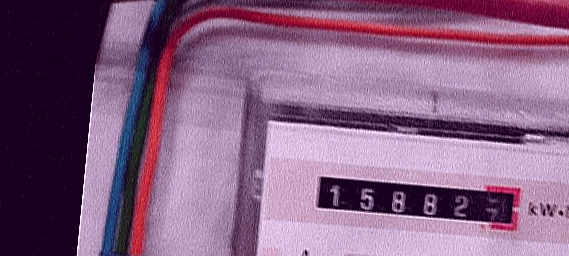1: (324, 183, 341, 209)
2: (450, 192, 468, 220)
5: (355, 186, 374, 213)
7: (481, 205, 496, 223)
8: (386, 189, 405, 215), (418, 190, 436, 217)
screen: (299, 161, 530, 243)
